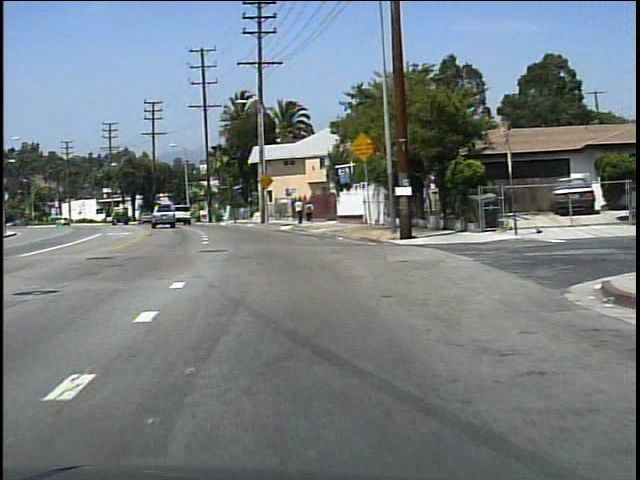person: (292, 196, 305, 224), (304, 197, 315, 224)
